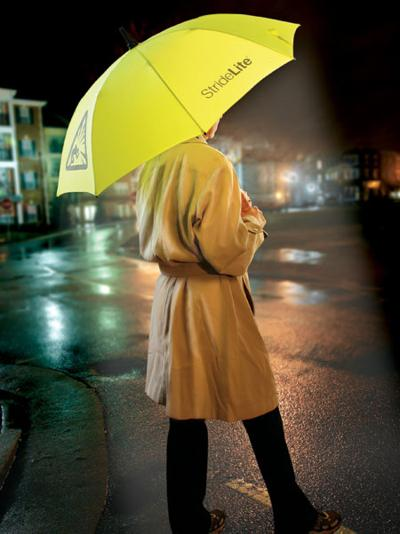person: (136, 118, 341, 533)
